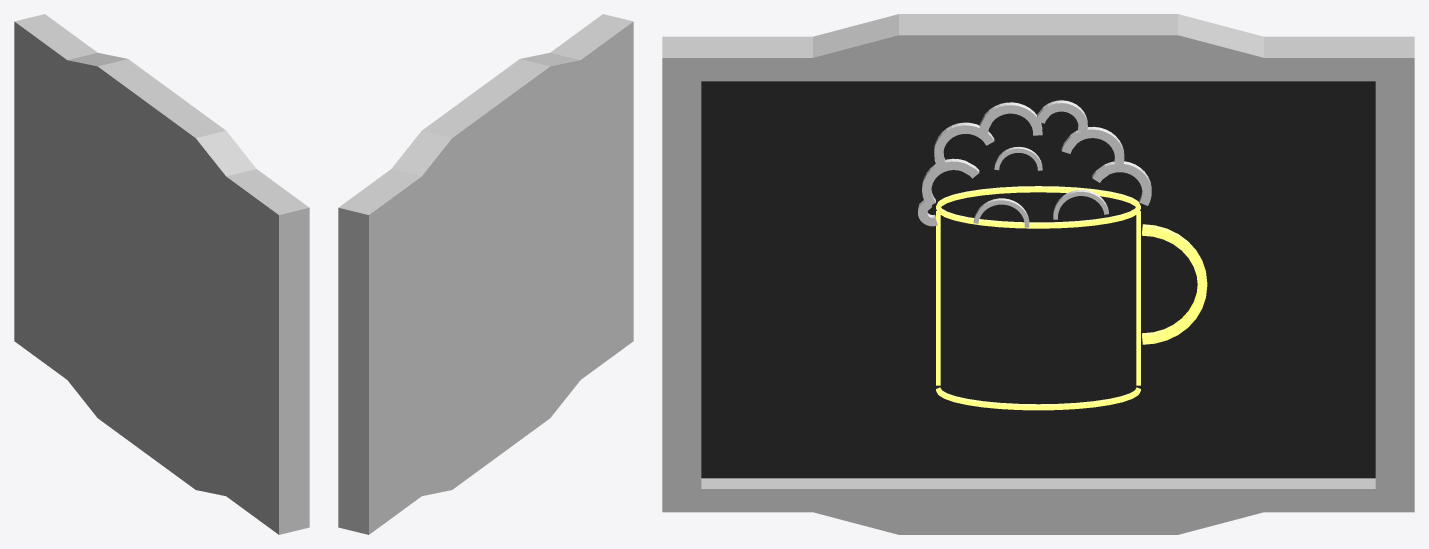
Rendered from Insegna_Pub.fbx.
The picture shows the model from 3 angles, left to right: view 1: azimuth 30°, elevation 25°; view 2: azimuth 150°, elevation 25°; view 3: azimuth 270°, elevation 25°; orthographic projection. The views are drawn at different scales.
Parts seen in each view (by area): view 1: Insegna; view 2: Insegna; view 3: Insegna, Circle.005, Circle.018, Circle.015, Circle.010, Circle.011, Circle.009, Circle.007, Circle.006, Circle.017, Circle.016.
Boxes of the visible parts, left/top/right/bottom form: Insegna: left=14, top=14, right=309, bottom=534; Insegna: left=338, top=14, right=633, bottom=534; Insegna: left=662, top=14, right=1414, bottom=534; Circle.005: left=936, top=186, right=1140, bottom=228; Circle.018: left=1142, top=224, right=1207, bottom=344; Circle.015: left=936, top=387, right=1140, bottom=410; Circle.010: left=1092, top=161, right=1151, bottom=205; Circle.011: left=1061, top=126, right=1124, bottom=164; Circle.009: left=979, top=102, right=1042, bottom=135; Circle.007: left=934, top=122, right=994, bottom=165; Circle.006: left=922, top=158, right=979, bottom=206; Circle.017: left=1136, top=211, right=1140, bottom=385; Circle.016: left=936, top=211, right=940, bottom=385.
Bounding box in the file's own units: 0.1333 × 2 × 1.47.
